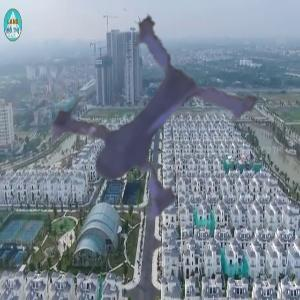drone: (15, 18, 258, 261)
